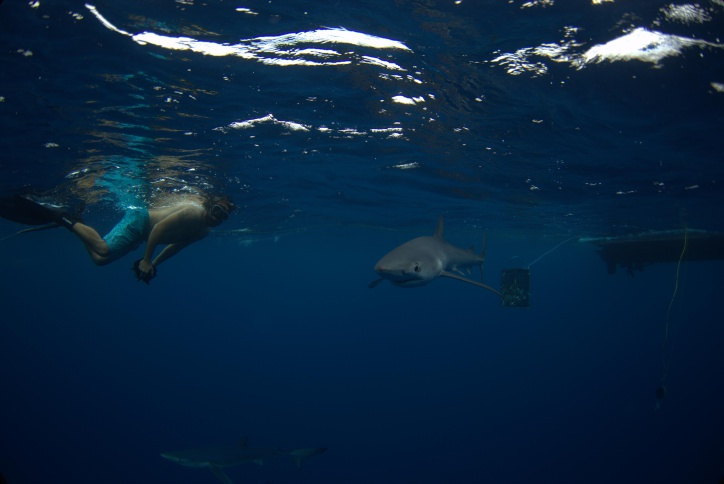Azul: (135, 188, 724, 451), (331, 220, 500, 317)
